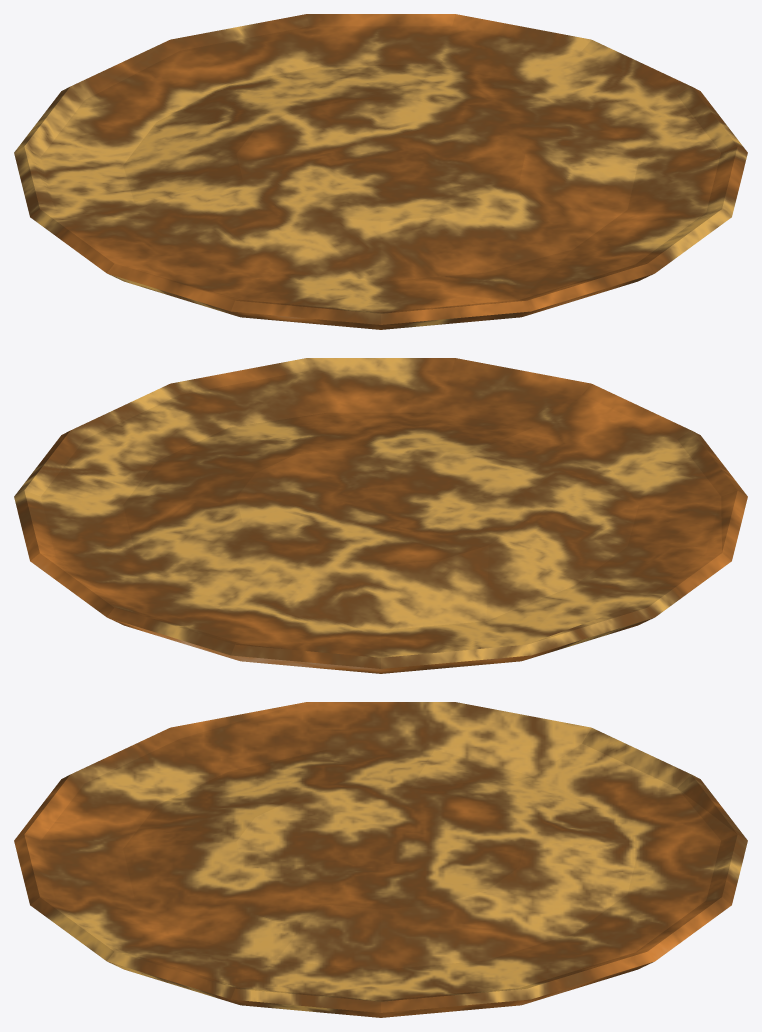
File: Pancake 1.FBX
3 views of the same model, one above another, from view 1: azimuth 30°, elevation 25°; view 2: azimuth 150°, elevation 25°; view 3: azimuth 270°, elevation 25° (orthographic).
Visible parts, largest first — view 1: Pancake; view 2: Pancake; view 3: Pancake.
Boxes of the visible parts, box(x1,y1,x2,y2) form: Pancake: box(14, 14, 747, 329); Pancake: box(14, 358, 747, 673); Pancake: box(14, 702, 747, 1017).
Bounding box in the file's own units: 296 × 11.54 × 298.
